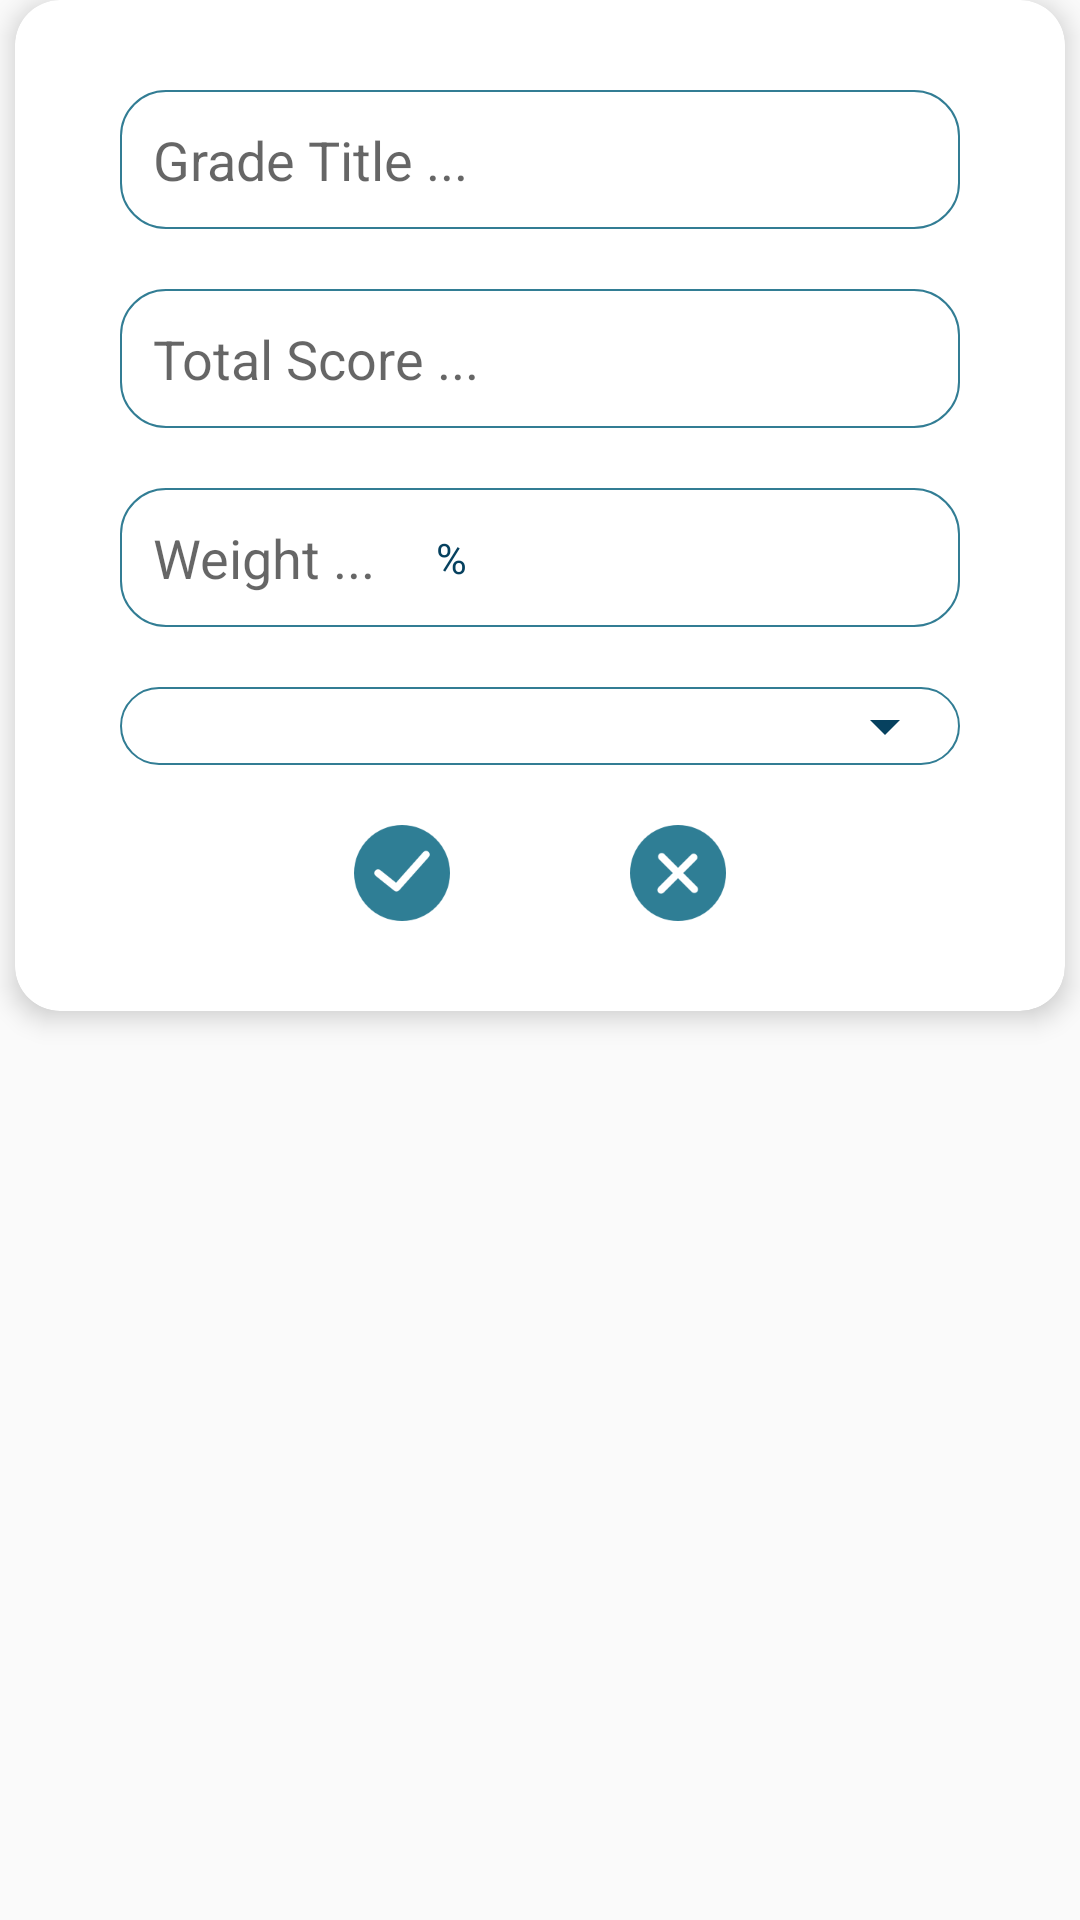

Icon bounding boxes for this 1080×1920 phone screenshot, format (x1, y1, x2, y2):
error: (630, 825, 726, 921)
success: (354, 825, 450, 921)
